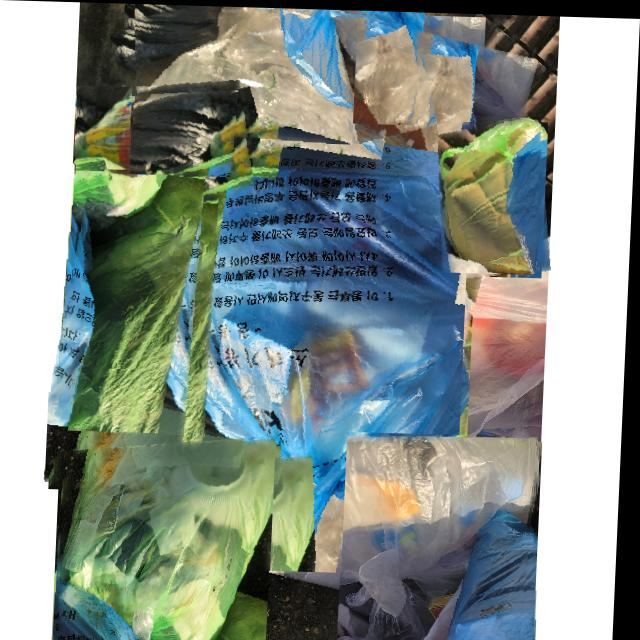general_trashbag: (50, 165, 205, 490), (64, 438, 279, 640), (439, 115, 541, 271), (78, 87, 132, 168)
other_trashbag: (171, 37, 475, 570), (346, 434, 541, 640), (135, 5, 353, 136), (107, 91, 237, 174), (329, 22, 420, 122)
